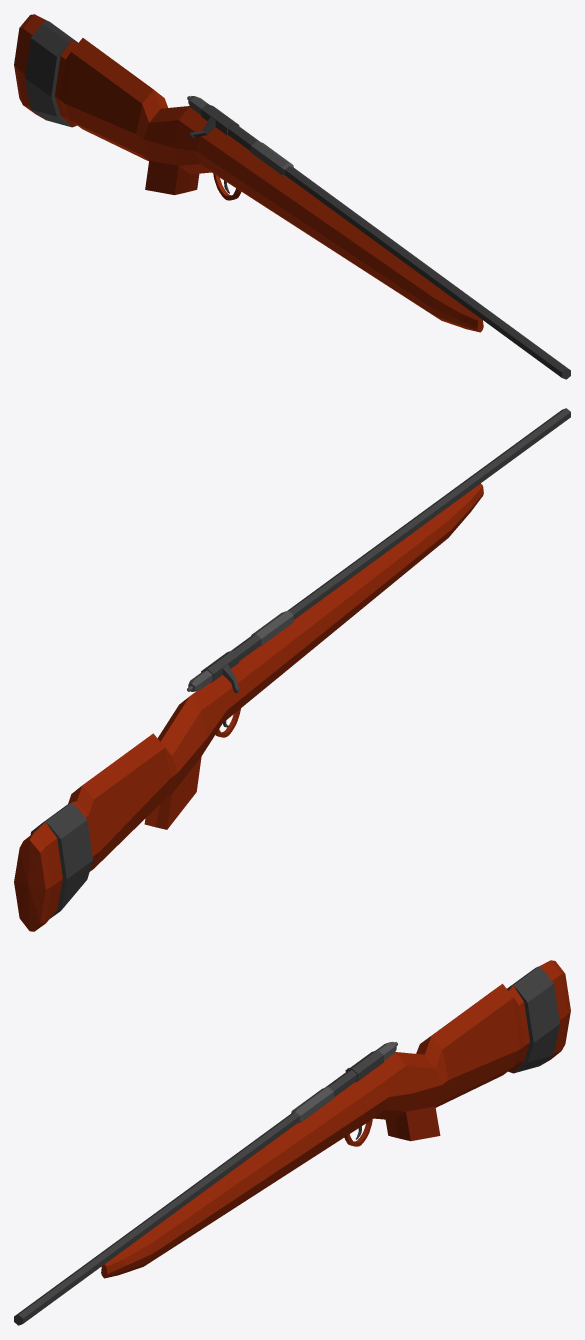
The model's file is rifle.glb.
3 views of the same model, one above another, from view 1: azimuth 30°, elevation 25°; view 2: azimuth 150°, elevation 25°; view 3: azimuth 330°, elevation 25° (orthographic).
Visible parts, largest first — view 1: rifle; view 2: rifle; view 3: rifle.
Boxes of the visible parts, left/top/right/bottom form: rifle: left=14, top=14, right=570, bottom=379; rifle: left=14, top=408, right=570, bottom=931; rifle: left=14, top=960, right=570, bottom=1325.
Size of the model in its own units: 0.0555 by 0.1608 by 1.15.
3 materials, 3 textured.
